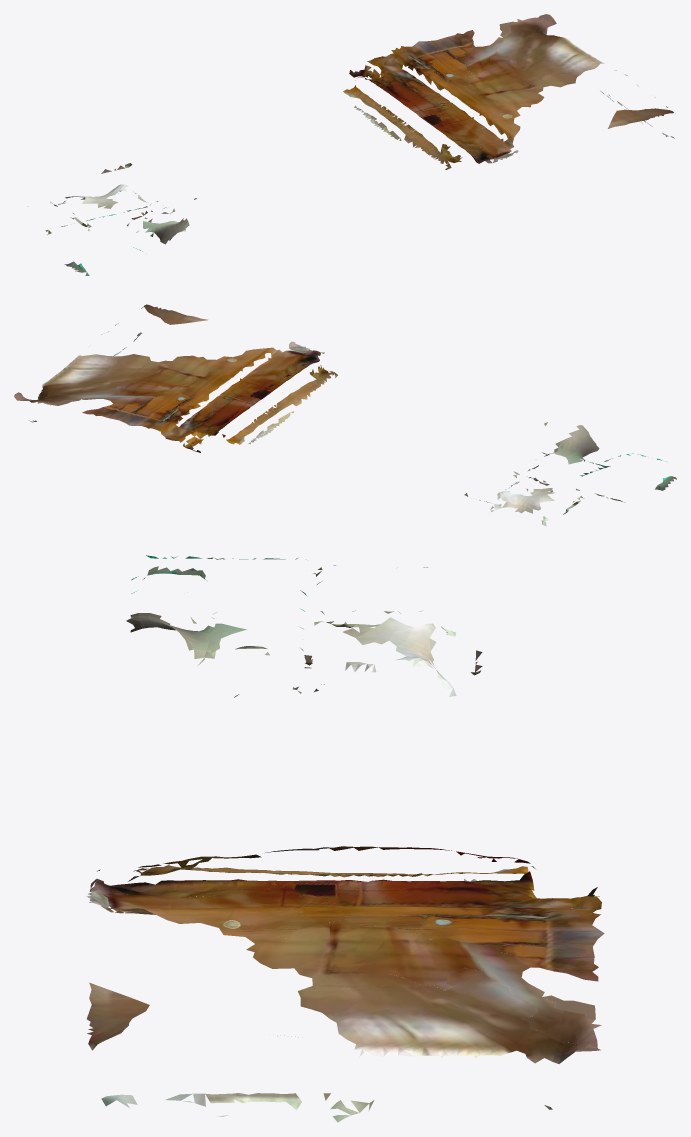
The model's file is esc_baja_techo_01.glb.
3 views of the same model, one above another, from view 1: azimuth 30°, elevation 25°; view 2: azimuth 150°, elevation 25°; view 3: azimuth 270°, elevation 25° (orthographic). The views are drawn at different scales.
Parts seen in each view (by area): view 1: techo_Planta_principal_1_GLTF, techo_Planta_principal_1_GLTF_11, techo_Planta_principal_1_GLTF_8, techo_Planta_principal_1_GLTF_15, techo_Planta_principal_1_GLTF_14, techo_Planta_principal_1_GLTF_3, techo_Planta_principal_1_GLTF_1, techo_Planta_principal_1_GLTF_12; view 2: techo_Planta_principal_1_GLTF, techo_Planta_principal_1_GLTF_11, techo_Planta_principal_1_GLTF_8, techo_Planta_principal_1_GLTF_15, techo_Planta_principal_1_GLTF_3, techo_Planta_principal_1_GLTF_14, techo_Planta_principal_1_GLTF_1, techo_Planta_principal_1_GLTF_12; view 3: techo_Planta_principal_1_GLTF, techo_Planta_principal_1_GLTF_11, techo_Planta_principal_1_GLTF_8, techo_Planta_principal_1_GLTF_15, techo_Planta_principal_1_GLTF_14, techo_Planta_principal_1_GLTF_12, techo_Planta_principal_1_GLTF_5.
Boxes of the visible parts, x1,y1,x2,y2 form: techo_Planta_principal_1_GLTF: (61, 21, 520, 226); techo_Planta_principal_1_GLTF_11: (177, 25, 673, 223); techo_Planta_principal_1_GLTF_8: (47, 17, 556, 235); techo_Planta_principal_1_GLTF_15: (70, 75, 498, 244); techo_Planta_principal_1_GLTF_14: (349, 14, 643, 162); techo_Planta_principal_1_GLTF_3: (50, 74, 438, 226); techo_Planta_principal_1_GLTF_1: (45, 101, 451, 234); techo_Planta_principal_1_GLTF_12: (608, 109, 647, 128); techo_Planta_principal_1_GLTF: (46, 347, 547, 485); techo_Planta_principal_1_GLTF_11: (32, 332, 560, 452); techo_Planta_principal_1_GLTF_8: (19, 355, 625, 502); techo_Planta_principal_1_GLTF_15: (223, 350, 599, 512); techo_Planta_principal_1_GLTF_3: (191, 381, 580, 514); techo_Planta_principal_1_GLTF_14: (14, 341, 324, 452); techo_Planta_principal_1_GLTF_1: (29, 372, 658, 502); techo_Planta_principal_1_GLTF_12: (157, 310, 207, 324); techo_Planta_principal_1_GLTF: (103, 558, 604, 1019); techo_Planta_principal_1_GLTF_11: (149, 613, 577, 1115); techo_Planta_principal_1_GLTF_8: (246, 573, 601, 1059); techo_Planta_principal_1_GLTF_15: (89, 613, 530, 897); techo_Planta_principal_1_GLTF_14: (86, 876, 601, 1122); techo_Planta_principal_1_GLTF_12: (87, 982, 149, 1022); techo_Planta_principal_1_GLTF_5: (101, 612, 298, 1107).
Bounding box in the file's own units: 16.02 × 1.3 × 6.47.
Materials: 15 (15 with a texture image).
